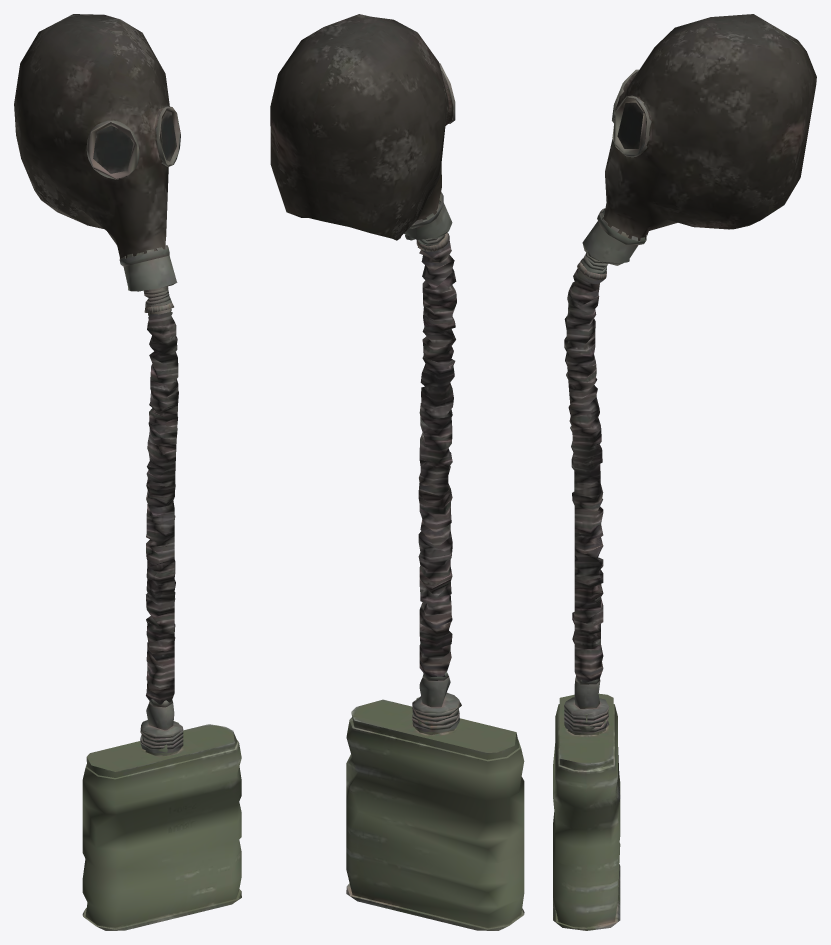
File: ph_old_gas_mask.glb
The picture shows the model from 3 angles, left to right: view 1: azimuth 30°, elevation 25°; view 2: azimuth 150°, elevation 25°; view 3: azimuth 270°, elevation 25°; orthographic projection. The views are drawn at different scales.
Visible parts, largest first — view 1: old_gas_mask; view 2: old_gas_mask; view 3: old_gas_mask.
Boxes of the visible parts, x1=… form: old_gas_mask: x1=14, y1=14, x2=241, y2=930; old_gas_mask: x1=270, y1=14, x2=524, y2=930; old_gas_mask: x1=553, y1=14, x2=816, y2=930.
Size of the model in its own units: 0.2105 by 1.12 by 0.3087.
1 material, 1 textured.
